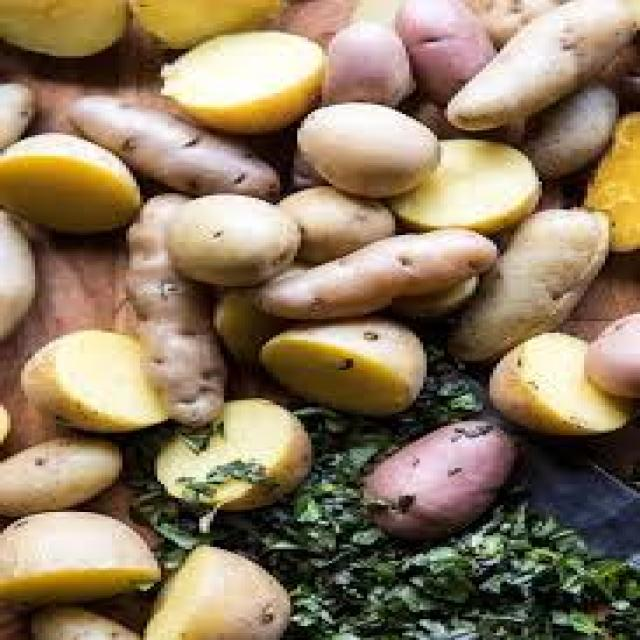Potato: (133, 379, 305, 515), (144, 31, 339, 148), (21, 319, 201, 442), (263, 309, 441, 433), (476, 203, 612, 356), (386, 126, 553, 241), (281, 105, 451, 215), (487, 320, 622, 457), (0, 120, 147, 239), (137, 538, 295, 640), (0, 517, 161, 593), (0, 433, 116, 518)
